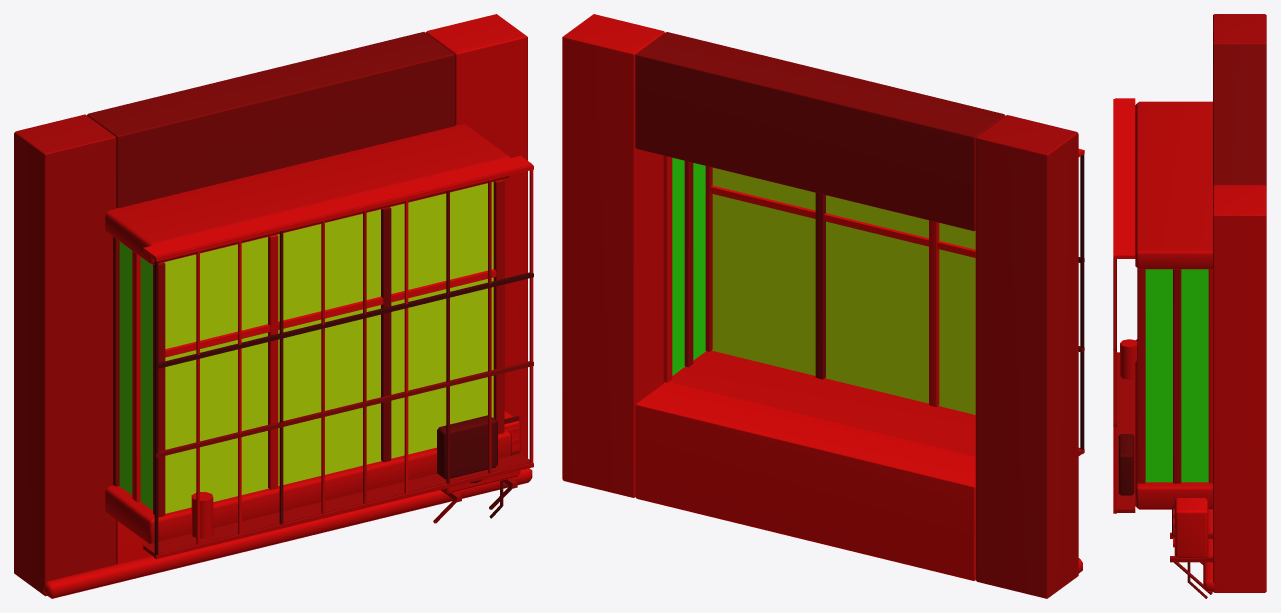
The model's file is fac_tile_a.glb.
3 views of the same model, side by side, from view 1: azimuth 30°, elevation 25°; view 2: azimuth 150°, elevation 25°; view 3: azimuth 270°, elevation 25° (orthographic). The views are drawn at different scales.
Visible parts, largest first — view 1: fac_tile_a; view 2: fac_tile_a; view 3: fac_tile_a.
Boxes of the visible parts, x1=… form: fac_tile_a: x1=14, y1=14, x2=533, y2=598; fac_tile_a: x1=562, y1=14, x2=1084, y2=598; fac_tile_a: x1=1113, y1=14, x2=1266, y2=598.
Bounding box in the file's own units: 4 × 3.71 × 1.28.
